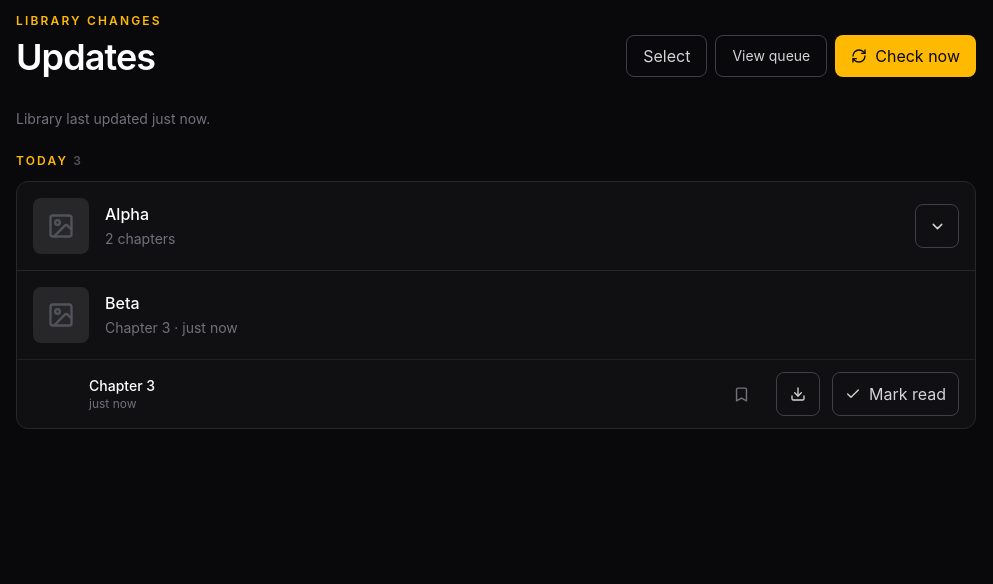
Test case: UpdatesPage › groups chapters per manga with expandable leaders
Expected: the text "Alpha" is shown, [105,204,149,224]
Expected: the text "2 chapters" is shown, [105,230,176,247]
Click the button named "Expand updates for Alpha".
click(937, 226)  # box [915,204,959,248]
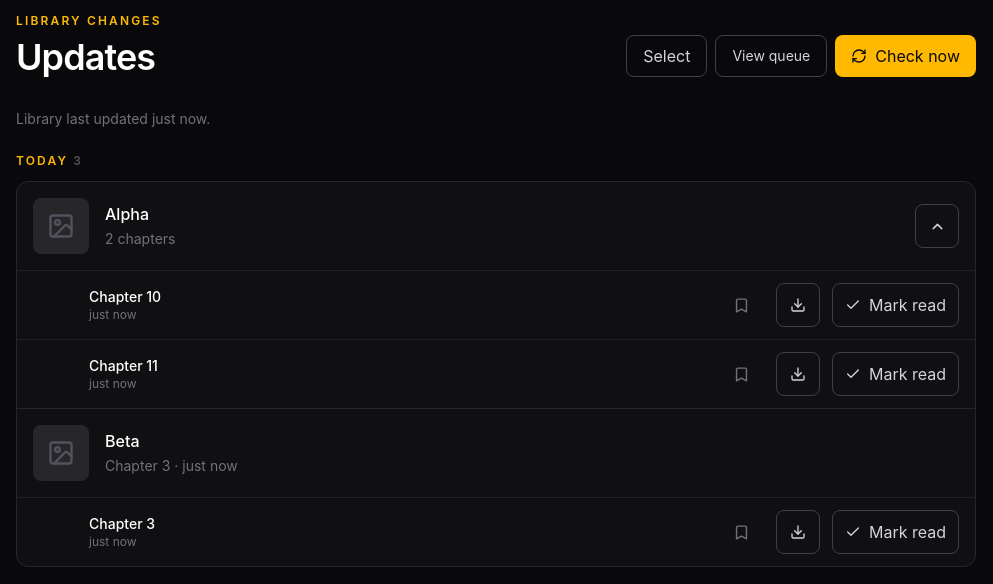
Expected: the link "Chapter 3" is shown, [89,515,155,532]
Expected: the link "Chapter 11" is shown, [89,357,158,374]
